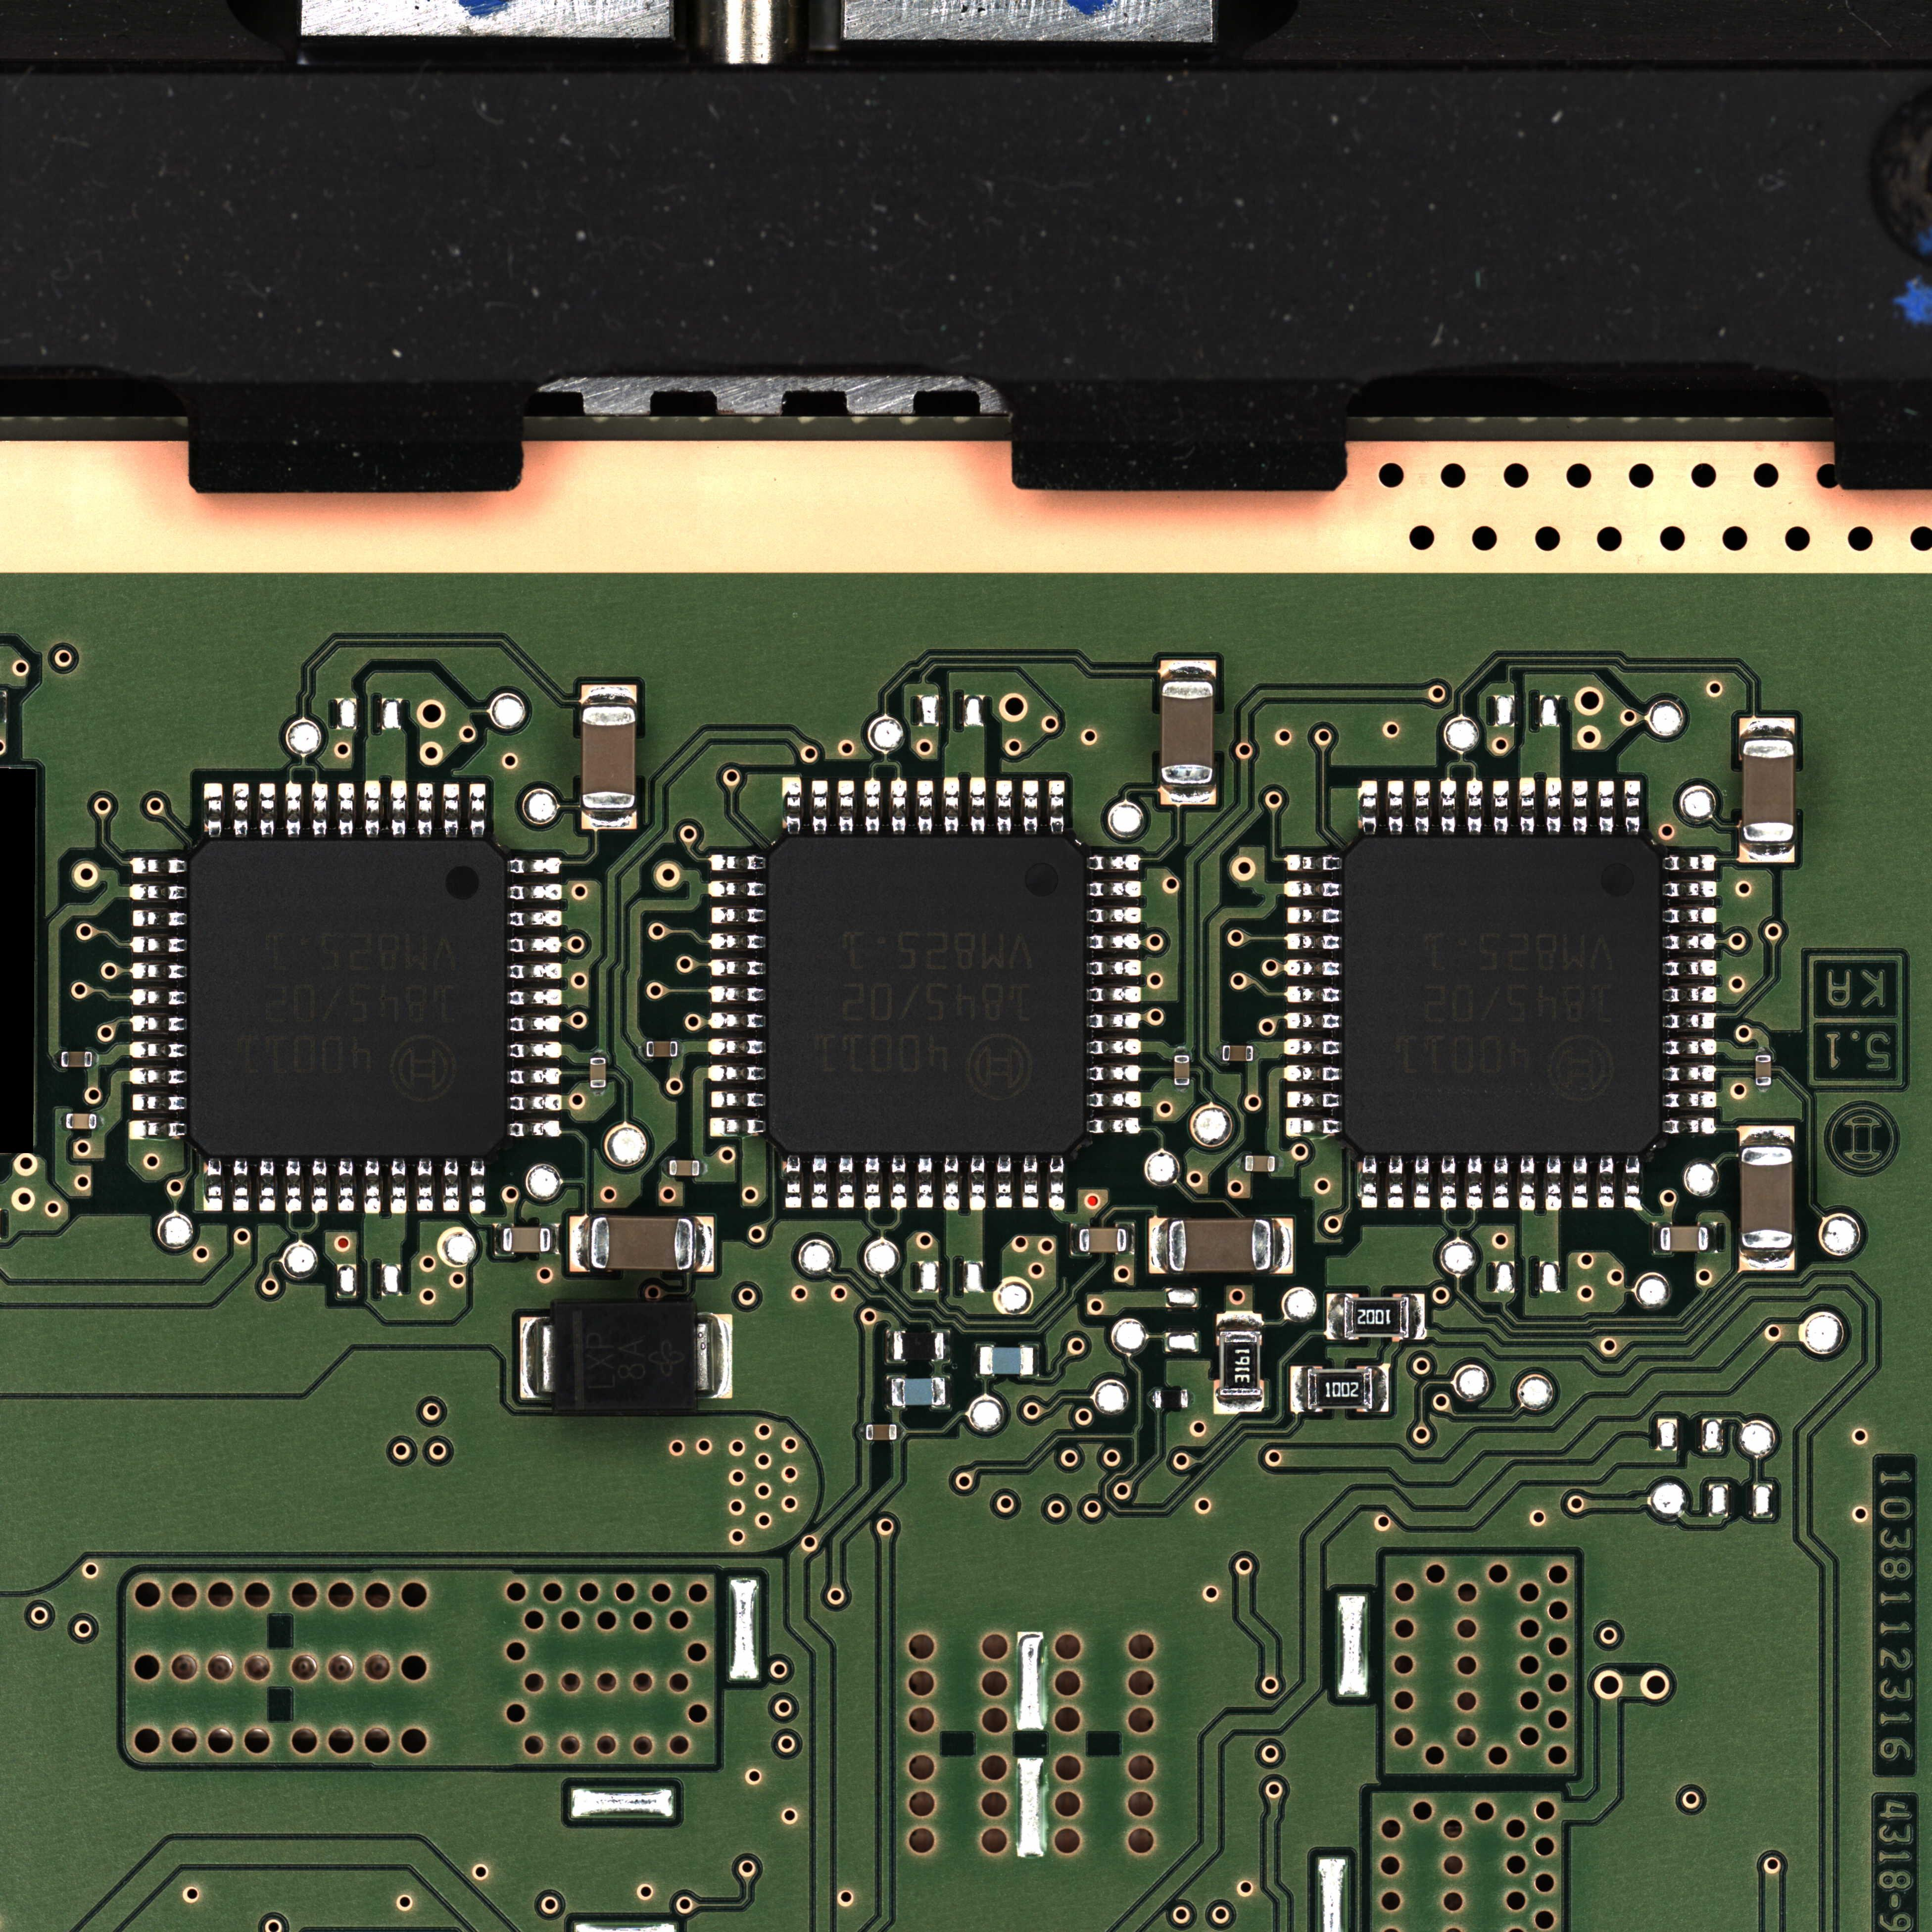Package: (764, 835, 1086, 1155), (188, 837, 508, 1159), (1341, 837, 1663, 1155), (554, 1302, 695, 1412), (582, 708, 635, 809), (1741, 1146, 1792, 1249), (1162, 681, 1214, 784), (591, 1217, 694, 1269), (1743, 740, 1794, 840), (1169, 1219, 1270, 1270), (1219, 1332, 1261, 1396), (1345, 1297, 1408, 1338), (1307, 1369, 1373, 1408), (892, 1378, 945, 1407), (980, 1346, 1033, 1375), (893, 1330, 943, 1361), (1079, 1228, 1127, 1253), (502, 1228, 550, 1253), (1661, 1226, 1707, 1251), (1155, 1391, 1187, 1408), (65, 1113, 97, 1129), (1755, 1054, 1771, 1086), (62, 1051, 92, 1067), (1223, 1046, 1253, 1062), (867, 1424, 897, 1440), (1246, 1155, 1276, 1171), (646, 1042, 678, 1056), (1175, 1054, 1189, 1086), (669, 1161, 699, 1175), (591, 1058, 605, 1088)
Solder: (697, 1313, 732, 1399), (520, 1316, 554, 1398), (570, 1215, 591, 1272), (694, 1215, 715, 1272), (1272, 1217, 1293, 1274), (1739, 842, 1794, 863), (1739, 1249, 1794, 1270), (1739, 1125, 1794, 1146), (1161, 784, 1215, 805), (582, 685, 637, 706), (1739, 718, 1794, 740), (782, 777, 801, 835), (1162, 660, 1215, 681), (1148, 1217, 1168, 1274), (129, 1120, 186, 1139), (1284, 1116, 1341, 1136), (709, 1116, 766, 1136), (582, 810, 637, 830), (203, 1157, 223, 1212), (203, 782, 223, 837), (1359, 780, 1378, 835), (1283, 1039, 1341, 1056), (1283, 881, 1341, 899), (1283, 1065, 1341, 1083), (943, 777, 961, 835), (1545, 777, 1562, 835), (1284, 855, 1341, 872), (1284, 985, 1341, 1003), (708, 1039, 764, 1056), (708, 1012, 764, 1030), (1284, 1012, 1341, 1030), (708, 1065, 764, 1083), (129, 1042, 186, 1060), (508, 962, 563, 980), (131, 962, 186, 980), (131, 1016, 186, 1033), (709, 985, 764, 1003), (916, 780, 934, 835), (709, 932, 764, 950), (508, 1120, 563, 1138), (1518, 1155, 1536, 1210), (1086, 1092, 1141, 1109), (1663, 1039, 1718, 1056), (709, 959, 764, 977), (508, 989, 563, 1007), (131, 989, 186, 1007), (1286, 1092, 1341, 1109), (863, 1155, 881, 1210), (1598, 780, 1615, 835), (131, 1093, 186, 1111), (131, 936, 186, 954), (1047, 1155, 1065, 1210), (469, 784, 487, 839), (1545, 1155, 1562, 1210), (285, 782, 303, 837), (890, 778, 908, 833), (1663, 855, 1716, 872), (1361, 1155, 1378, 1208), (258, 1159, 276, 1212), (1663, 1092, 1716, 1109), (1663, 959, 1716, 977), (1663, 985, 1716, 1003), (133, 909, 186, 927), (1663, 1012, 1716, 1030), (1088, 1039, 1141, 1056), (416, 1159, 433, 1212), (1571, 1155, 1589, 1208), (1663, 932, 1716, 950), (916, 1155, 934, 1208), (1088, 932, 1141, 950), (508, 936, 561, 954), (442, 1159, 460, 1212), (1088, 985, 1141, 1003), (1663, 1065, 1716, 1083), (837, 1155, 855, 1208), (1088, 1012, 1141, 1030), (442, 784, 460, 837), (232, 1159, 249, 1212), (1387, 1155, 1405, 1208), (285, 1159, 303, 1212), (1520, 777, 1536, 835), (970, 777, 985, 835), (129, 1069, 186, 1085), (1467, 778, 1483, 835), (364, 780, 380, 837), (708, 881, 764, 897), (1284, 934, 1341, 950), (129, 885, 186, 901), (1284, 961, 1341, 977), (311, 780, 327, 837), (391, 780, 407, 837), (1440, 778, 1456, 835), (1214, 1396, 1263, 1414), (1414, 780, 1430, 835), (508, 911, 563, 927), (1286, 908, 1341, 924), (1573, 780, 1589, 835), (709, 855, 764, 870), (364, 1159, 380, 1214), (508, 885, 563, 901), (260, 782, 276, 837), (970, 1155, 985, 1210), (1086, 855, 1141, 870), (131, 858, 186, 874), (1624, 780, 1640, 835), (508, 1042, 563, 1058), (311, 1159, 327, 1214), (508, 1095, 563, 1111), (1086, 1118, 1141, 1134), (865, 778, 881, 833), (1387, 780, 1403, 835), (943, 1155, 959, 1210), (418, 782, 433, 837), (1493, 780, 1509, 835), (234, 782, 249, 837), (469, 1159, 485, 1214), (839, 780, 855, 835), (1049, 780, 1065, 835), (890, 1155, 906, 1210), (1624, 1155, 1640, 1210), (391, 1159, 407, 1214), (338, 782, 354, 837), (996, 780, 1012, 835), (1440, 1155, 1456, 1210), (1215, 1313, 1263, 1330), (1023, 780, 1039, 833), (508, 1069, 561, 1085), (1088, 908, 1141, 924), (812, 780, 828, 833), (508, 1016, 561, 1031), (508, 858, 561, 874), (1663, 908, 1716, 924), (1414, 1155, 1430, 1208), (1663, 881, 1716, 897), (1023, 1155, 1039, 1208), (711, 908, 764, 924), (1467, 1155, 1483, 1208), (1088, 881, 1141, 897), (812, 1155, 828, 1208), (1088, 961, 1141, 977), (1663, 1118, 1716, 1134), (711, 1092, 764, 1108), (1088, 1065, 1141, 1081), (338, 1159, 354, 1212), (1598, 1155, 1614, 1208), (996, 1155, 1012, 1208), (786, 1155, 801, 1208), (1493, 1157, 1509, 1208), (1327, 1293, 1345, 1339), (1290, 1366, 1307, 1412), (1373, 1364, 1389, 1412), (1408, 1293, 1424, 1339), (1652, 1223, 1661, 1254), (494, 1224, 502, 1254), (1707, 1223, 1716, 1253), (550, 1224, 559, 1254), (1070, 1224, 1079, 1254), (1127, 1223, 1134, 1254), (886, 1330, 893, 1362), (943, 1330, 950, 1362), (945, 1376, 952, 1408), (1033, 1345, 1040, 1376), (973, 1345, 980, 1376), (885, 1376, 892, 1407), (1253, 1046, 1261, 1062), (699, 1161, 708, 1177), (662, 1159, 669, 1177), (97, 1113, 104, 1131), (639, 1040, 646, 1058), (589, 1088, 607, 1095), (1215, 1044, 1223, 1062), (1187, 1391, 1194, 1408), (1148, 1391, 1155, 1408), (678, 1040, 685, 1056), (1276, 1155, 1283, 1171), (92, 1051, 99, 1067), (1173, 1047, 1189, 1054), (1238, 1155, 1246, 1171), (897, 1424, 904, 1440), (1755, 1086, 1771, 1093), (591, 1051, 607, 1058), (1755, 1047, 1771, 1054), (58, 1113, 65, 1129), (55, 1051, 62, 1067), (860, 1424, 865, 1440), (1175, 1086, 1189, 1092)
